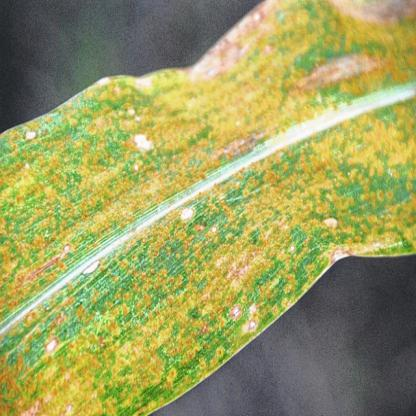Corn rust leaf: (2, 2, 415, 409)
